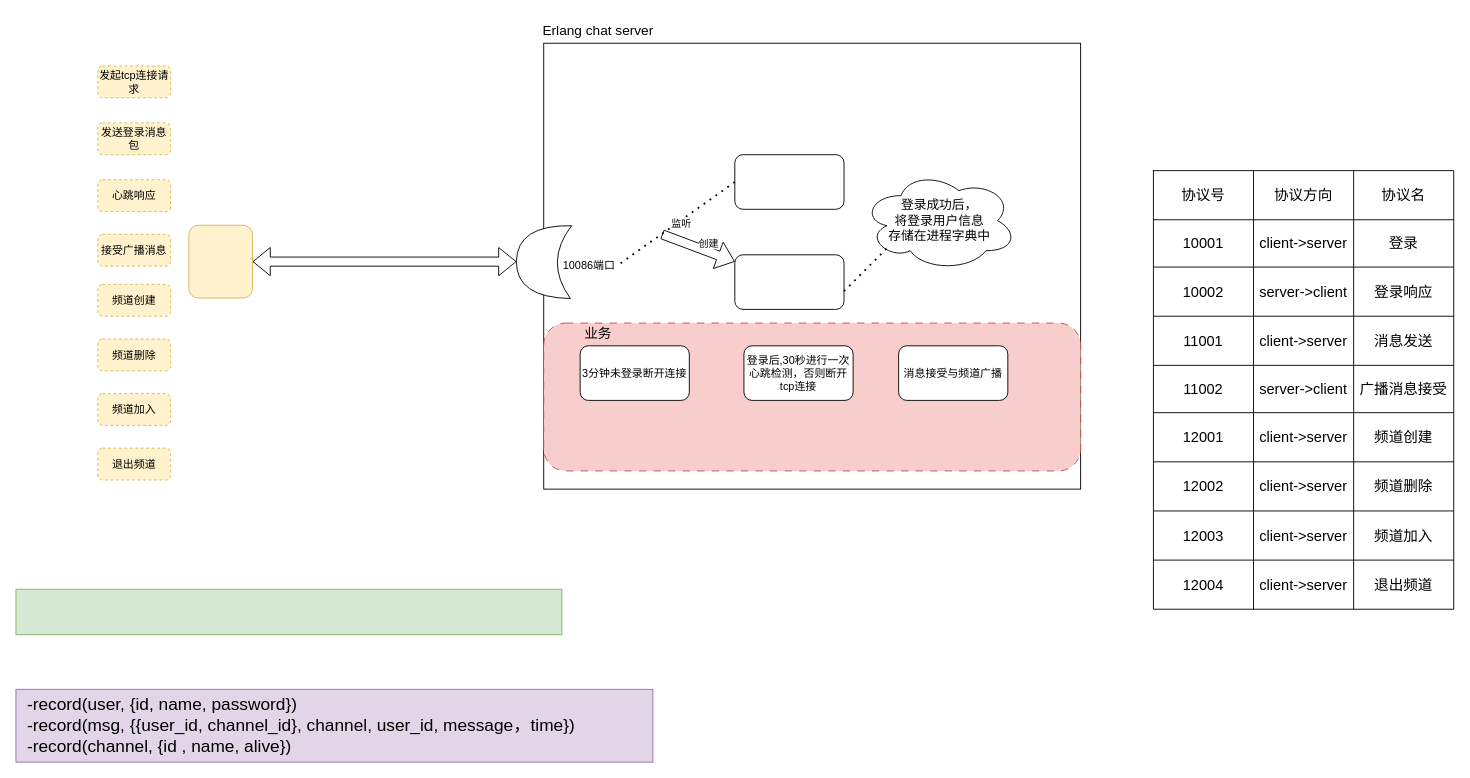
This 1470x778 diagram has some shape labels left out. Here are the shapes that lost their labels. From the top down, the centre of each, then its label:
pixel 789 181: 端口监听连接进程
pixel 220 261: java客户端
pixel 789 281: 业务处理进程进程
pixel 288 611: 考虑：①对于世界频道来说其实就是一个特殊的频道所有人在登录后都能默认加入 ②对于消息--》是否保存消息？用户断开连接是否退出频道？
